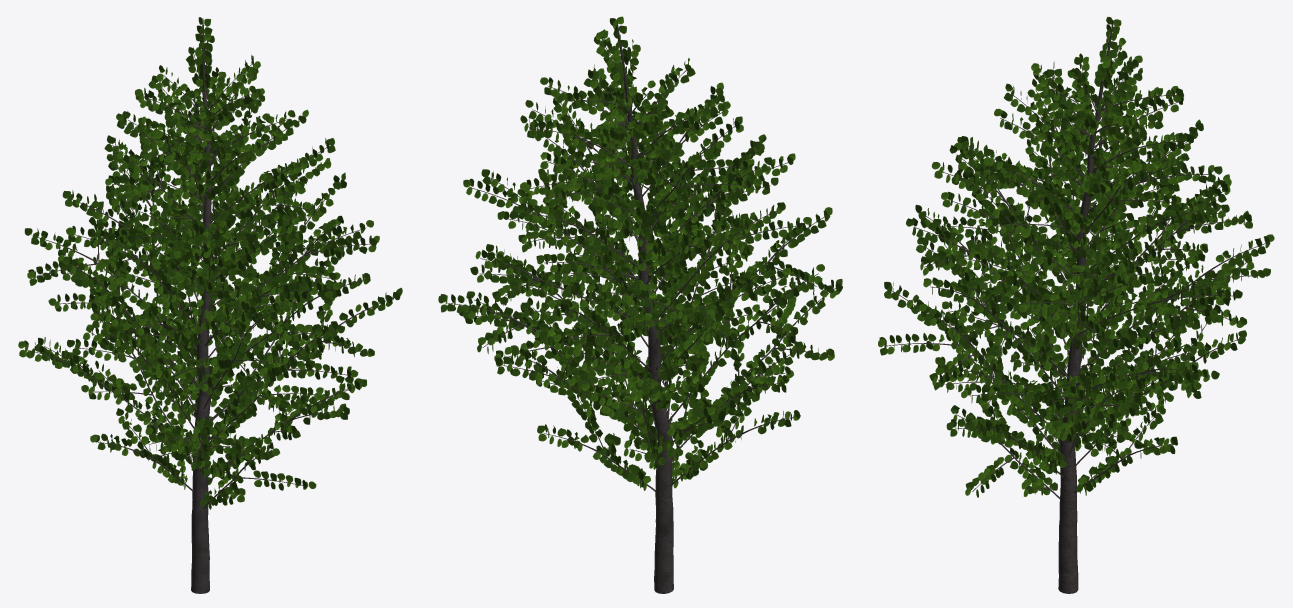
File: tree_1.glb
3 views of the same model, side by side, from view 1: azimuth 30°, elevation 25°; view 2: azimuth 150°, elevation 25°; view 3: azimuth 270°, elevation 25° (orthographic). The views are drawn at different scales.
Visible parts, largest first — view 1: Cercidiphyllum_japonicum_katsura; view 2: Cercidiphyllum_japonicum_katsura; view 3: Cercidiphyllum_japonicum_katsura.
Part boxes in pixels (box(x1,y1,x2,y2)): Cercidiphyllum_japonicum_katsura: box(18, 17, 402, 593); Cercidiphyllum_japonicum_katsura: box(438, 16, 842, 593); Cercidiphyllum_japonicum_katsura: box(878, 16, 1274, 593).
Size of the model in its own units: 1730 by 2689 by 1676.
Materials: 4 (4 with a texture image).
